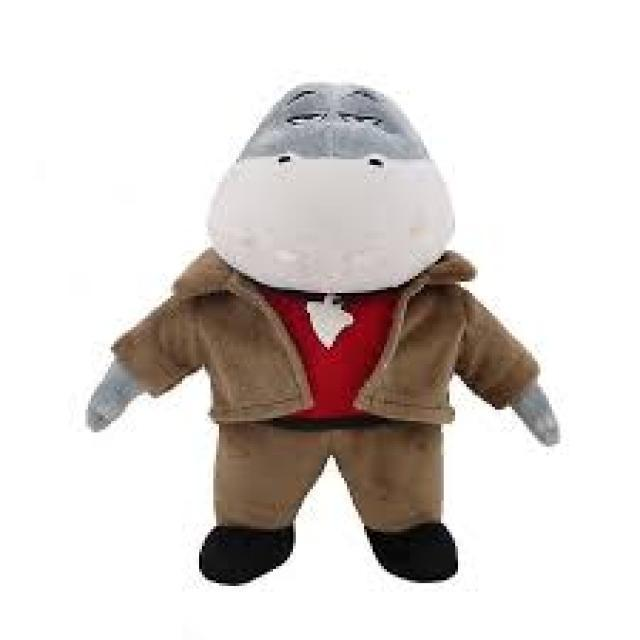soft-toy: (89, 85, 560, 584)
